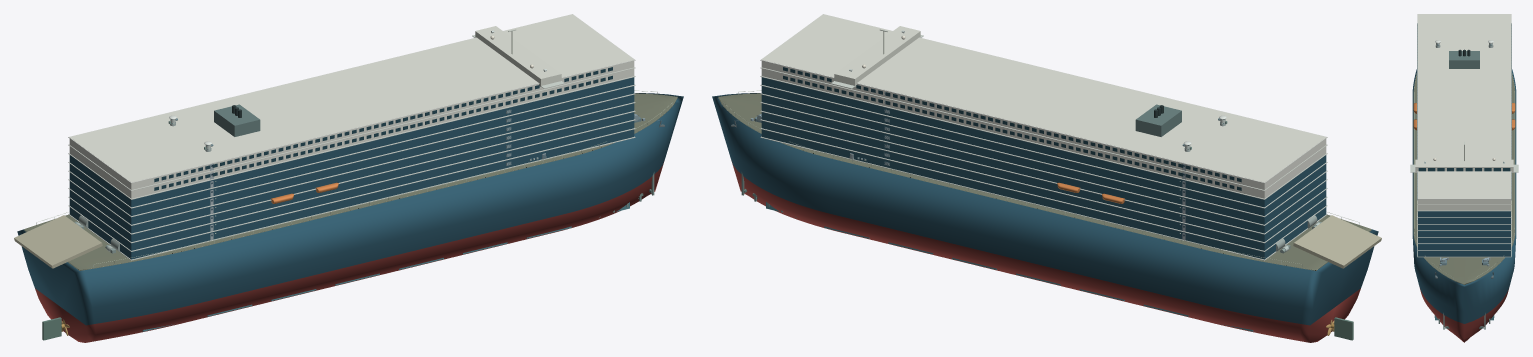
The model's file is hoegh-aurora.lod1.glb.
3 renders of one model, left to right at view 1: azimuth 30°, elevation 25°; view 2: azimuth 150°, elevation 25°; view 3: azimuth 270°, elevation 25°, orthographic. The views are drawn at different scales.
Visible parts, largest first — view 1: hoegh-aurora.structure.hull.outer-hull-shell.1, hoegh-aurora.accommodation.superstructure.deck-9-enclosure.1, hoegh-aurora.structure.hull.antifouling-underwater-shell.1, hoegh-aurora.accommodation.superstructure.deck-5-enclosure.1, hoegh-aurora.accommodation.superstructure.deck-6-enclosure.1, hoegh-aurora.accommodation.superstructure.deck-2-enclosure.1, hoegh-aurora.accommodation.superstructure.deck-7-enclosure.1, hoegh-aurora.accommodation.superstructure.deck-4-enclosure.1, hoegh-aurora.accommodation.superstructure.deck-1-enclosure.1, hoegh-aurora.accommodation.superstructure.deck-3-enclosure.1, hoegh-aurora.structure.decks.main-strength-deck.1, hoegh-aurora.accommodation.superstructure.deck-8-enclosure.1 (+13 smaller); view 2: hoegh-aurora.structure.hull.outer-hull-shell.1, hoegh-aurora.accommodation.superstructure.deck-9-enclosure.1, hoegh-aurora.structure.hull.antifouling-underwater-shell.1, hoegh-aurora.accommodation.superstructure.deck-5-enclosure.1, hoegh-aurora.accommodation.superstructure.deck-6-enclosure.1, hoegh-aurora.accommodation.superstructure.deck-2-enclosure.1, hoegh-aurora.accommodation.superstructure.deck-7-enclosure.1, hoegh-aurora.accommodation.superstructure.deck-4-enclosure.1, hoegh-aurora.accommodation.superstructure.deck-1-enclosure.1, hoegh-aurora.accommodation.superstructure.deck-3-enclosure.1, hoegh-aurora.structure.decks.main-strength-deck.1, hoegh-aurora.accommodation.superstructure.deck-8-enclosure.1 (+13 smaller); view 3: hoegh-aurora.accommodation.superstructure.deck-9-enclosure.1, hoegh-aurora.structure.hull.outer-hull-shell.1, hoegh-aurora.structure.decks.main-strength-deck.1, hoegh-aurora.navigation.bridge.wheelhouse.1, hoegh-aurora.structure.hull.antifouling-underwater-shell.1, hoegh-aurora.accommodation.superstructure.deck-1-enclosure.1, hoegh-aurora.accommodation.superstructure.deck-3-enclosure.1, hoegh-aurora.accommodation.superstructure.deck-5-enclosure.1, hoegh-aurora.accommodation.superstructure.deck-7-enclosure.1, hoegh-aurora.accommodation.superstructure.superstructure-wea, hoegh-aurora.accommodation.superstructure.deck-2-enclosure.1, hoegh-aurora.accommodation.superstructure.deck-4-enclosure.1 (+12 smaller).
Part boxes in pixels (x1,y1,x2,y2): hoegh-aurora.structure.hull.outer-hull-shell.1: (17, 93, 683, 325); hoegh-aurora.accommodation.superstructure.deck-9-enclosure.1: (69, 14, 634, 189); hoegh-aurora.structure.hull.antifouling-underwater-shell.1: (35, 161, 664, 342); hoegh-aurora.accommodation.superstructure.deck-5-enclosure.1: (69, 94, 634, 224); hoegh-aurora.accommodation.superstructure.deck-6-enclosure.1: (69, 86, 634, 215); hoegh-aurora.accommodation.superstructure.deck-2-enclosure.1: (69, 121, 634, 250); hoegh-aurora.accommodation.superstructure.deck-7-enclosure.1: (69, 77, 634, 207); hoegh-aurora.accommodation.superstructure.deck-4-enclosure.1: (69, 103, 634, 233); hoegh-aurora.accommodation.superstructure.deck-1-enclosure.1: (69, 129, 634, 259); hoegh-aurora.accommodation.superstructure.deck-3-enclosure.1: (69, 112, 634, 241); hoegh-aurora.structure.decks.main-strength-deck.1: (24, 93, 677, 270); hoegh-aurora.accommodation.superstructure.deck-8-enclosure.1: (69, 68, 634, 198); hoegh-aurora.structure.hull.outer-hull-shell.1: (712, 93, 1378, 325); hoegh-aurora.accommodation.superstructure.deck-9-enclosure.1: (761, 14, 1326, 189); hoegh-aurora.structure.hull.antifouling-underwater-shell.1: (731, 161, 1360, 342); hoegh-aurora.accommodation.superstructure.deck-5-enclosure.1: (761, 94, 1326, 224); hoegh-aurora.accommodation.superstructure.deck-6-enclosure.1: (761, 86, 1326, 215); hoegh-aurora.accommodation.superstructure.deck-2-enclosure.1: (761, 121, 1326, 250); hoegh-aurora.accommodation.superstructure.deck-7-enclosure.1: (761, 77, 1326, 207); hoegh-aurora.accommodation.superstructure.deck-4-enclosure.1: (761, 103, 1326, 233); hoegh-aurora.accommodation.superstructure.deck-1-enclosure.1: (761, 129, 1326, 259); hoegh-aurora.accommodation.superstructure.deck-3-enclosure.1: (761, 112, 1326, 241); hoegh-aurora.structure.decks.main-strength-deck.1: (718, 93, 1371, 270); hoegh-aurora.accommodation.superstructure.deck-8-enclosure.1: (761, 68, 1326, 198); hoegh-aurora.accommodation.superstructure.deck-9-enclosure.1: (1418, 14, 1510, 204); hoegh-aurora.structure.hull.outer-hull-shell.1: (1412, 69, 1516, 323); hoegh-aurora.structure.decks.main-strength-deck.1: (1413, 74, 1515, 284); hoegh-aurora.navigation.bridge.wheelhouse.1: (1415, 159, 1513, 172); hoegh-aurora.structure.hull.antifouling-underwater-shell.1: (1420, 289, 1508, 342); hoegh-aurora.accommodation.superstructure.deck-1-enclosure.1: (1418, 250, 1510, 256); hoegh-aurora.accommodation.superstructure.deck-3-enclosure.1: (1418, 237, 1510, 243); hoegh-aurora.accommodation.superstructure.deck-5-enclosure.1: (1418, 224, 1510, 230); hoegh-aurora.accommodation.superstructure.deck-7-enclosure.1: (1418, 211, 1510, 217); hoegh-aurora.accommodation.superstructure.superstructure-wea: (1417, 14, 1511, 199); hoegh-aurora.accommodation.superstructure.deck-2-enclosure.1: (1418, 244, 1510, 249); hoegh-aurora.accommodation.superstructure.deck-4-enclosure.1: (1418, 231, 1510, 236).
Size of the model in its own units: 204 by 58.71 by 39.19.
